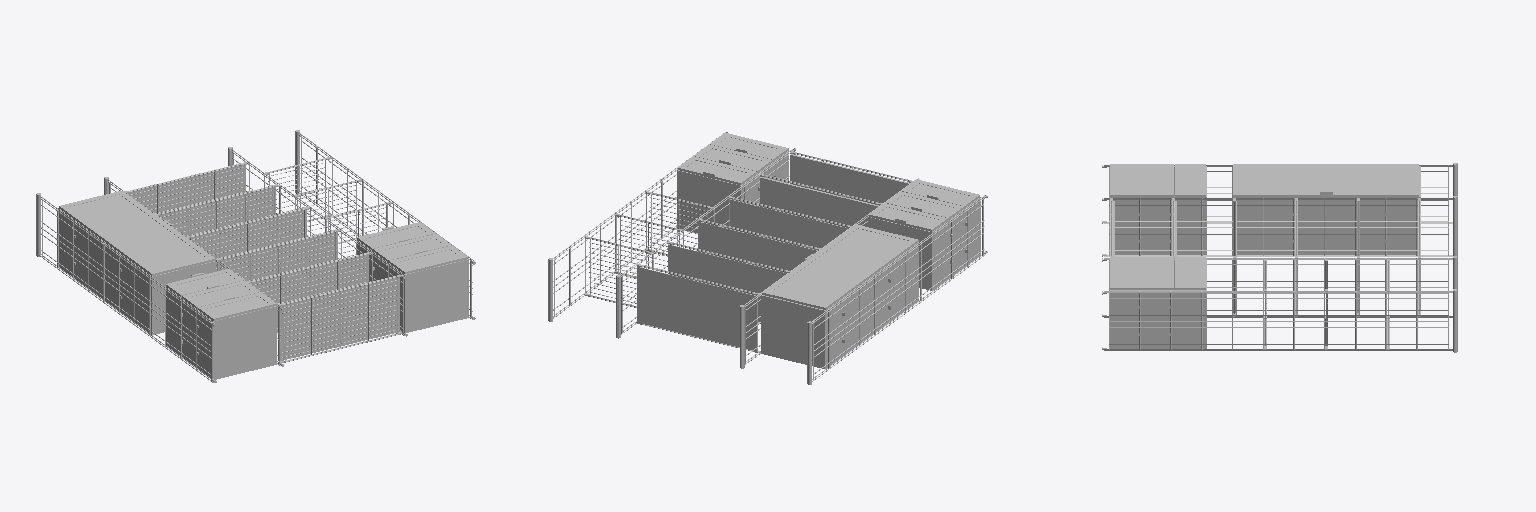
Rendered from scaffali.obj.
3 renders of one model, left to right at view 1: azimuth 30°, elevation 25°; view 2: azimuth 150°, elevation 25°; view 3: azimuth 270°, elevation 25°, orthographic.
Visible parts, largest first — view 1: obj58, obj42, obj62, obj30, obj41, obj20, obj33, obj51, obj48, obj54, obj45, obj29 (+9 smaller); view 2: obj42, obj48, obj58, obj62, obj41, obj33, obj45, obj30, obj54, obj51, obj20, obj23 (+4 smaller); view 3: obj42, obj62, obj58, obj41, obj23, obj26, obj17, obj57, obj61, obj20.
Boxes of the visible parts, <box> form: obj58: <box>165,269,276,379</box>; obj42: <box>58,191,215,334</box>; obj62: <box>357,222,468,332</box>; obj30: <box>278,278,399,360</box>; obj41: <box>69,195,205,269</box>; obj20: <box>38,197,216,382</box>; obj33: <box>253,255,368,331</box>; obj51: <box>218,233,337,280</box>; obj48: <box>130,165,245,212</box>; obj54: <box>191,210,306,271</box>; obj45: <box>160,187,275,236</box>; obj29: <box>278,275,402,363</box>; obj42: <box>761,224,918,368</box>; obj48: <box>637,267,757,351</box>; obj58: <box>868,180,980,290</box>; obj62: <box>677,133,788,232</box>; obj41: <box>772,229,908,303</box>; obj33: <box>760,177,878,226</box>; obj45: <box>668,244,786,321</box>; obj30: <box>790,154,909,204</box>; obj54: <box>699,222,817,272</box>; obj51: <box>730,199,848,249</box>; obj20: <box>812,195,987,381</box>; obj23: <box>553,132,727,318</box>; obj42: <box>1233,164,1420,254</box>; obj62: <box>1110,257,1206,348</box>; obj58: <box>1110,164,1206,254</box>; obj41: <box>1240,167,1412,191</box>; obj23: <box>1102,291,1452,350</box>; obj26: <box>1102,198,1452,256</box>; obj17: <box>1102,258,1452,317</box>; obj57: <box>1117,167,1198,191</box>; obj61: <box>1117,260,1198,284</box>; obj20: <box>1102,165,1452,223</box>.
Bounding box in the file's own units: 1.81 × 0.4261 × 2.12.